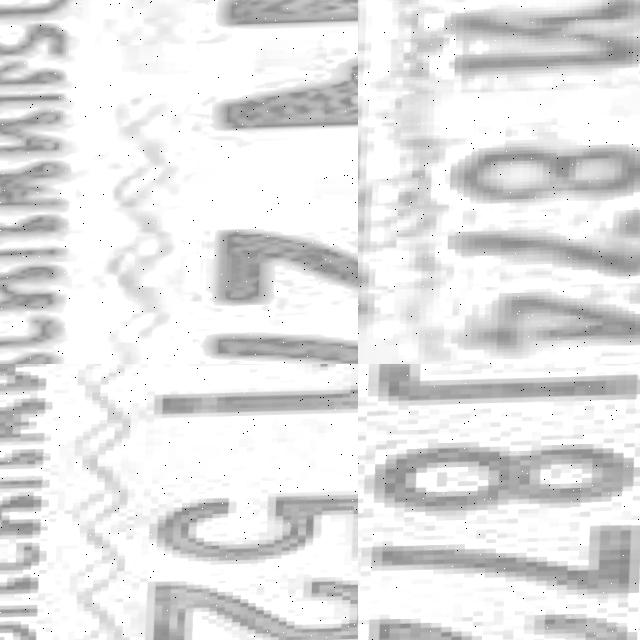license-plate: (0, 0, 358, 364), (358, 0, 640, 364), (0, 364, 358, 640), (358, 364, 640, 640)
